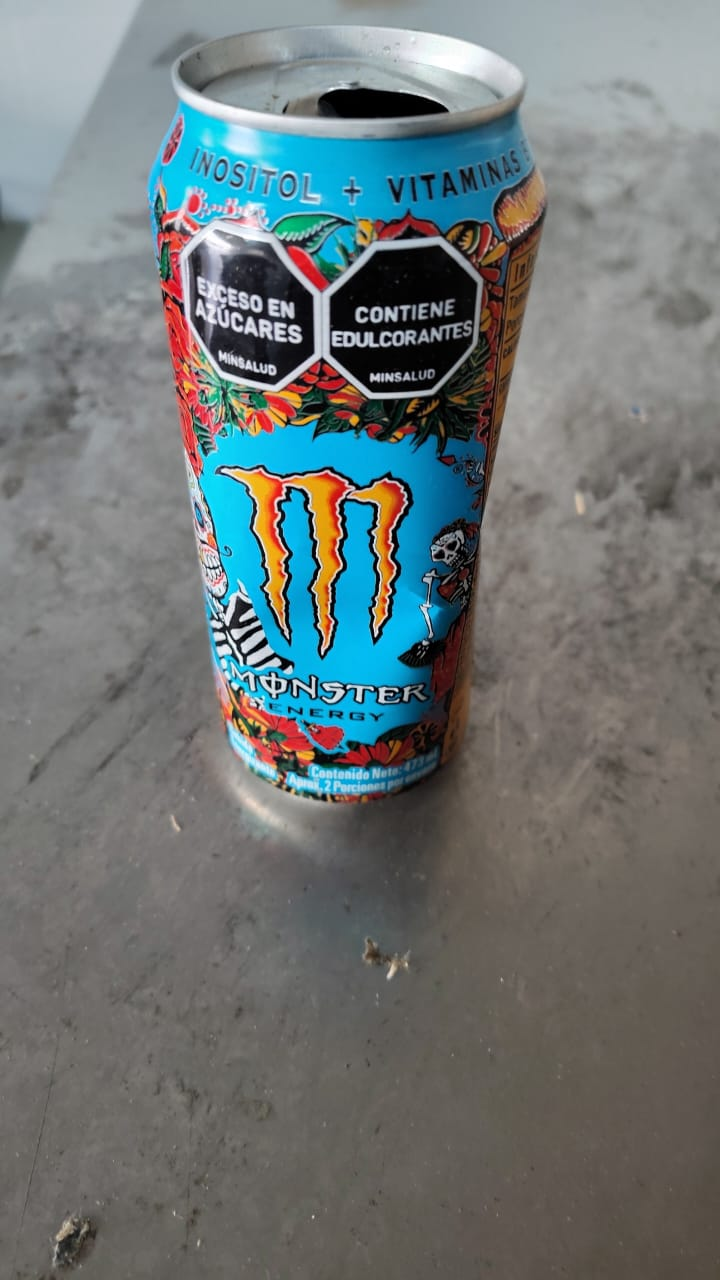Metal: (148, 18, 544, 803)
